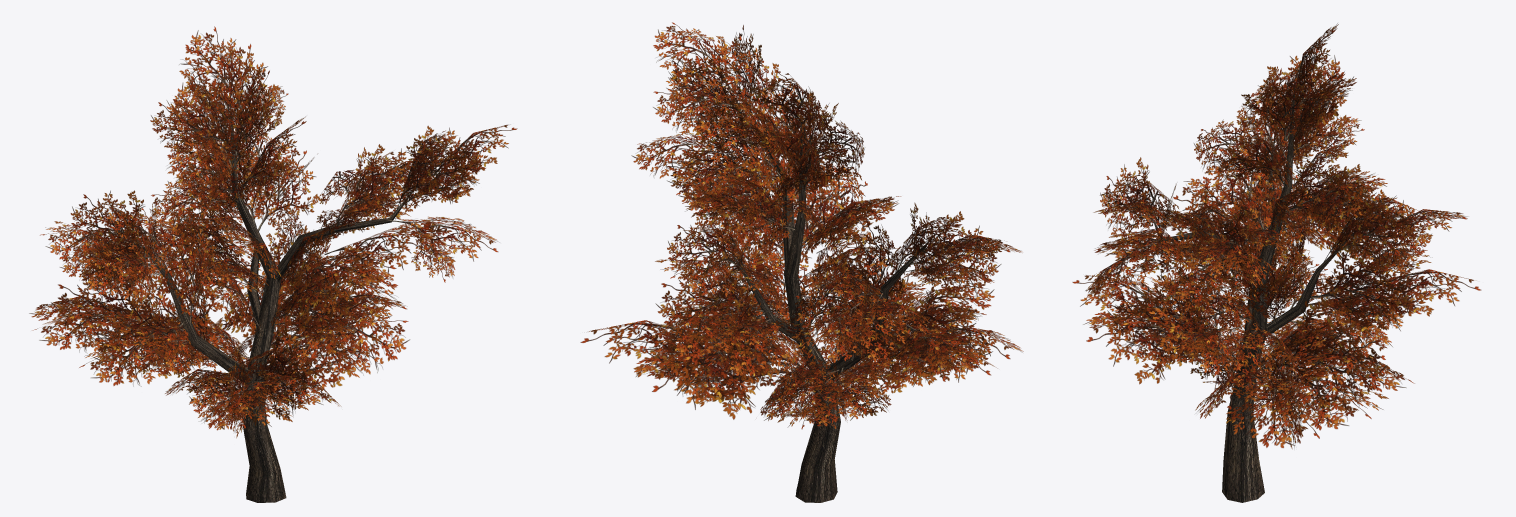
File: tree904.glb
The picture shows the model from 3 angles, left to right: view 1: azimuth 30°, elevation 25°; view 2: azimuth 150°, elevation 25°; view 3: azimuth 270°, elevation 25°; orthographic projection. The views are drawn at different scales.
Visible parts, largest first — view 1: tree904; view 2: tree904; view 3: tree904.
Part boxes in pixels (x1=…): tree904: x1=29, y1=26, x2=517, y2=502; tree904: x1=580, y1=22, x2=1023, y2=502; tree904: x1=1072, y1=23, x2=1481, y2=502.
Bounding box in the file's own units: 33.89 × 33.53 × 28.4.
Materials: 2 (2 with a texture image).
